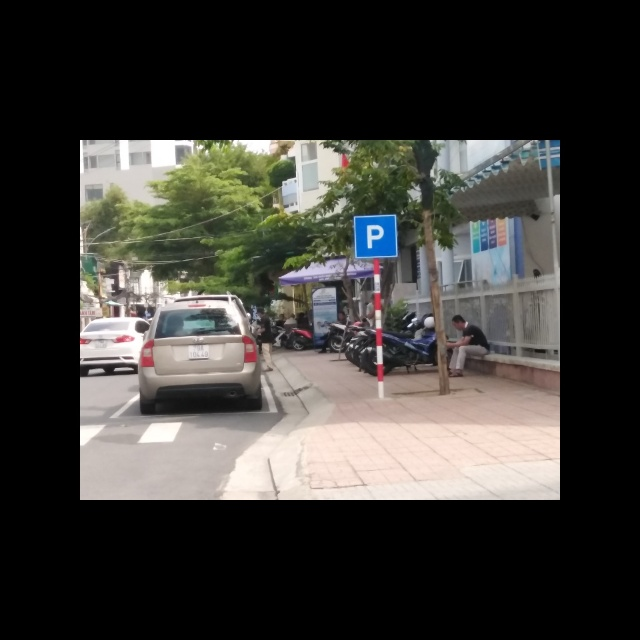Nơi đỗ xe: (354, 214, 400, 259)
